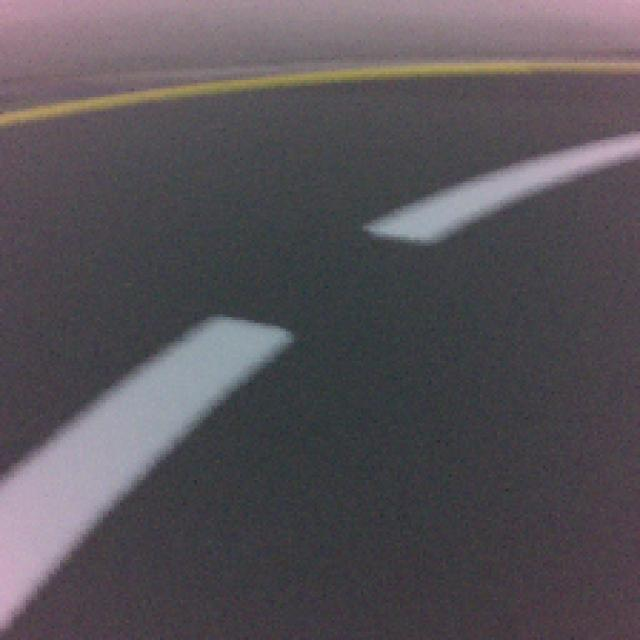Road: (2, 341, 636, 638)
